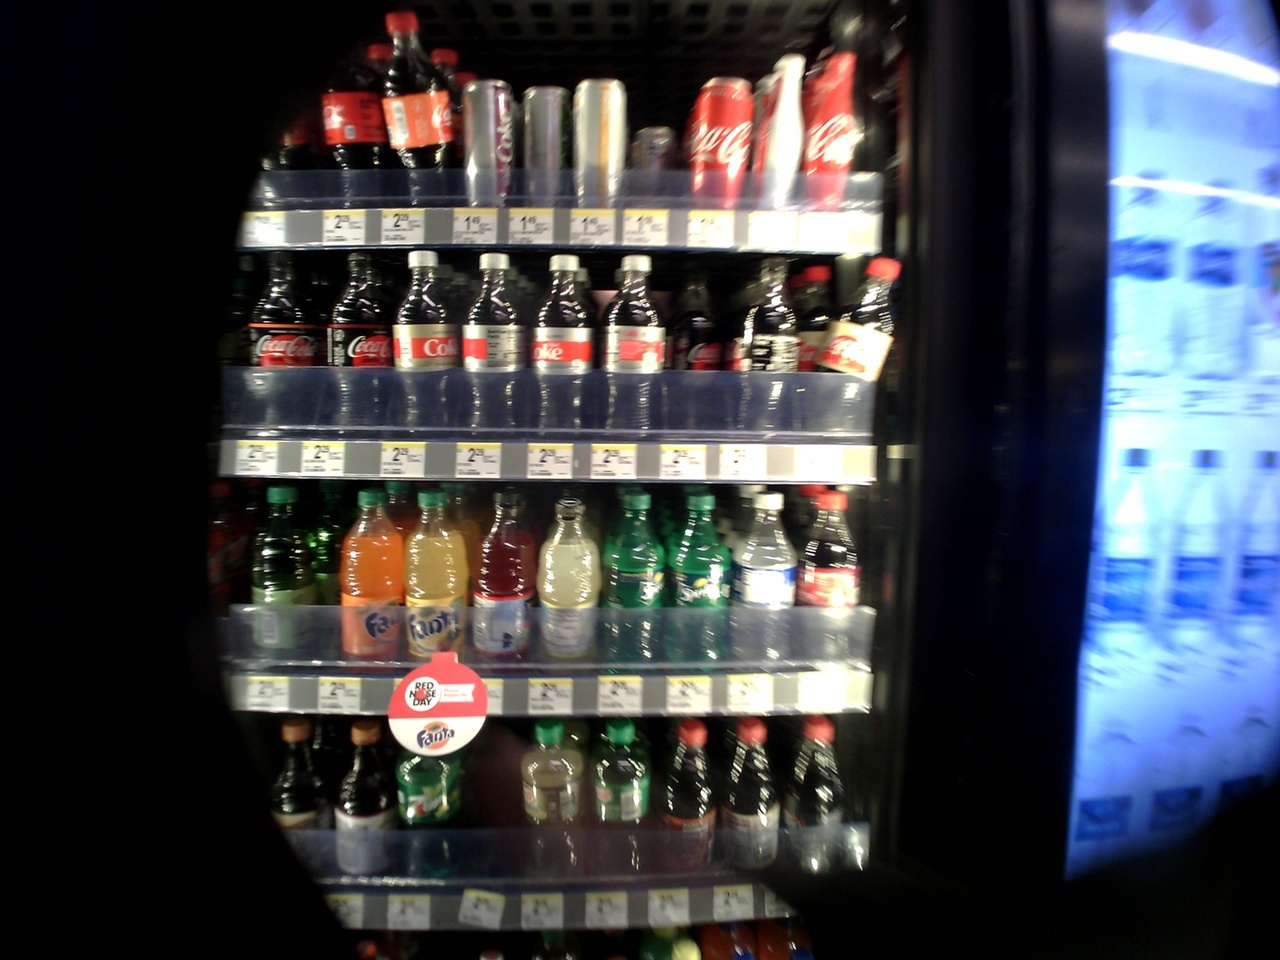shelf: (231, 251, 891, 482), (232, 12, 887, 241), (209, 492, 872, 713), (227, 714, 873, 910)
